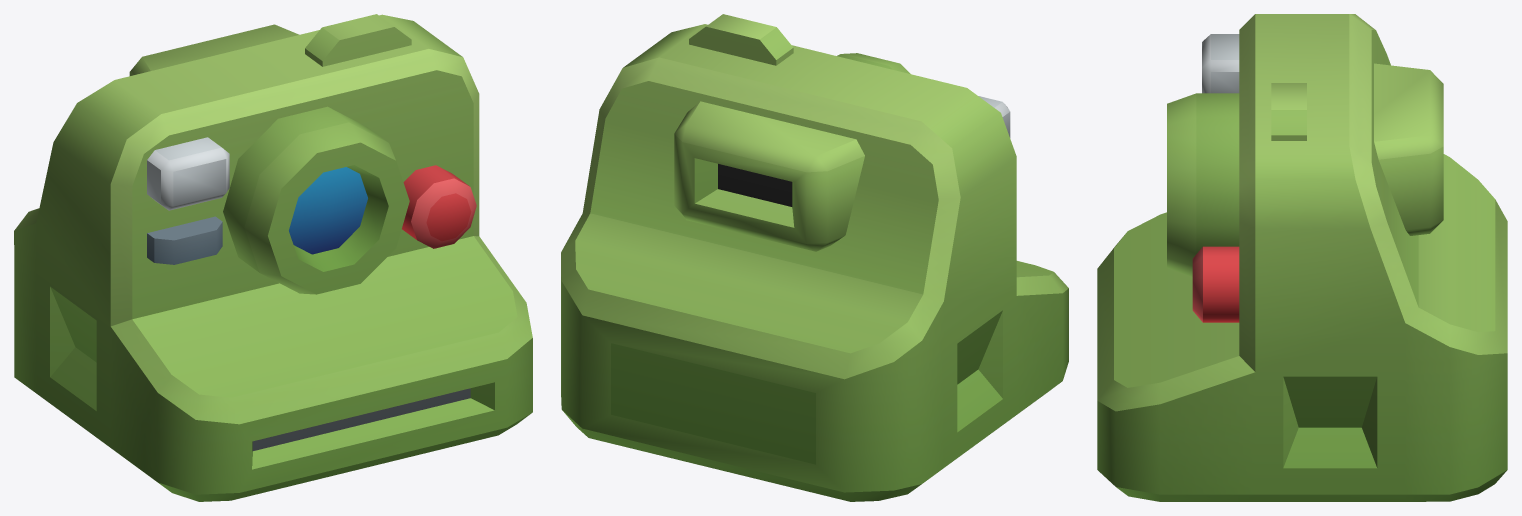
The model's file is instantcamera_green.fbx.
3 views of the same model, side by side, from view 1: azimuth 30°, elevation 25°; view 2: azimuth 150°, elevation 25°; view 3: azimuth 270°, elevation 25° (orthographic). The views are drawn at different scales.
Parts seen in each view (by area): view 1: instantcamera_green; view 2: instantcamera_green; view 3: instantcamera_green.
Part boxes in pixels (box(x1,y1,x2,y2)): instantcamera_green: box(14, 14, 532, 501); instantcamera_green: box(561, 14, 1068, 501); instantcamera_green: box(1097, 14, 1507, 501).
Bounding box in the file's own units: 60.08 × 55.76 × 57.44.
